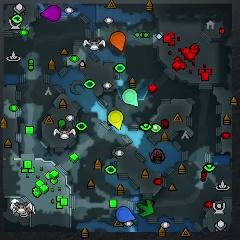p1: (116, 206, 135, 223)
p2: (123, 89, 139, 106)
p3: (41, 5, 61, 21)
p4: (108, 110, 124, 130)
p5: (110, 31, 127, 51)
x4: (137, 200, 153, 217)
